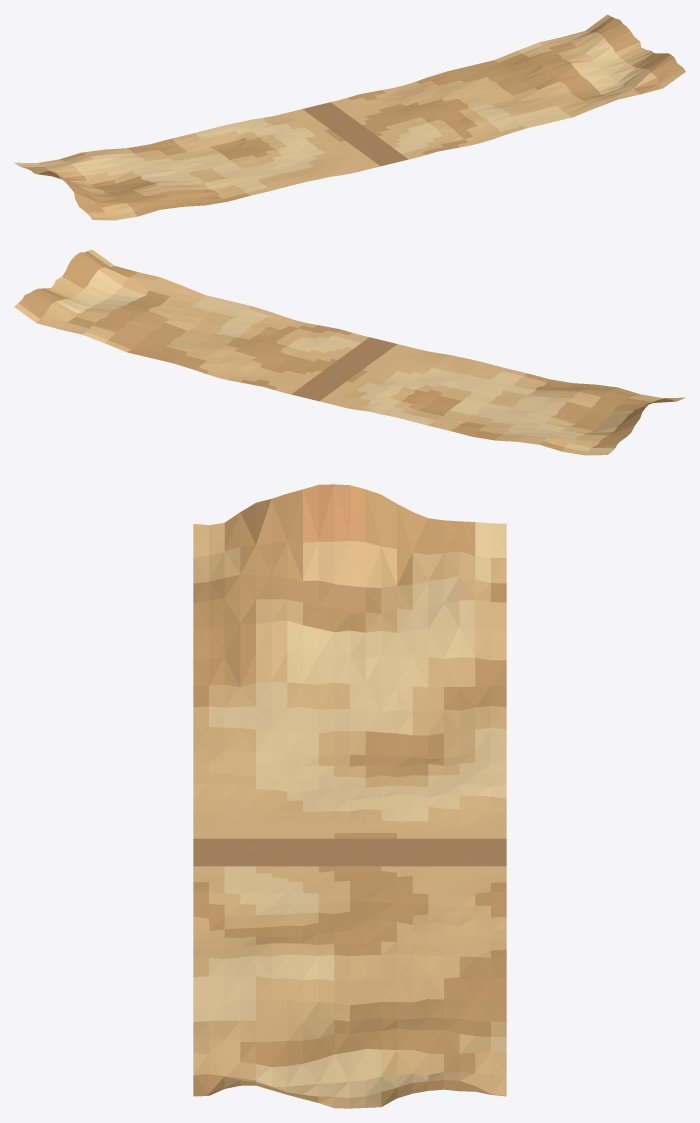
Rendered from SM_TerrainTile_B.fbx.
3 views of the same model, one above another, from view 1: azimuth 30°, elevation 25°; view 2: azimuth 150°, elevation 25°; view 3: azimuth 270°, elevation 25° (orthographic). The views are drawn at different scales.
Visible parts, largest first — view 1: TerrainTile_B; view 2: TerrainTile_B; view 3: TerrainTile_B.
Boxes of the visible parts, x1,y1,x2,y2 form: TerrainTile_B: (14, 14, 685, 220); TerrainTile_B: (14, 249, 685, 455); TerrainTile_B: (193, 484, 506, 1108).
Size of the model in its own units: 26383 by 6000 by 1596.
